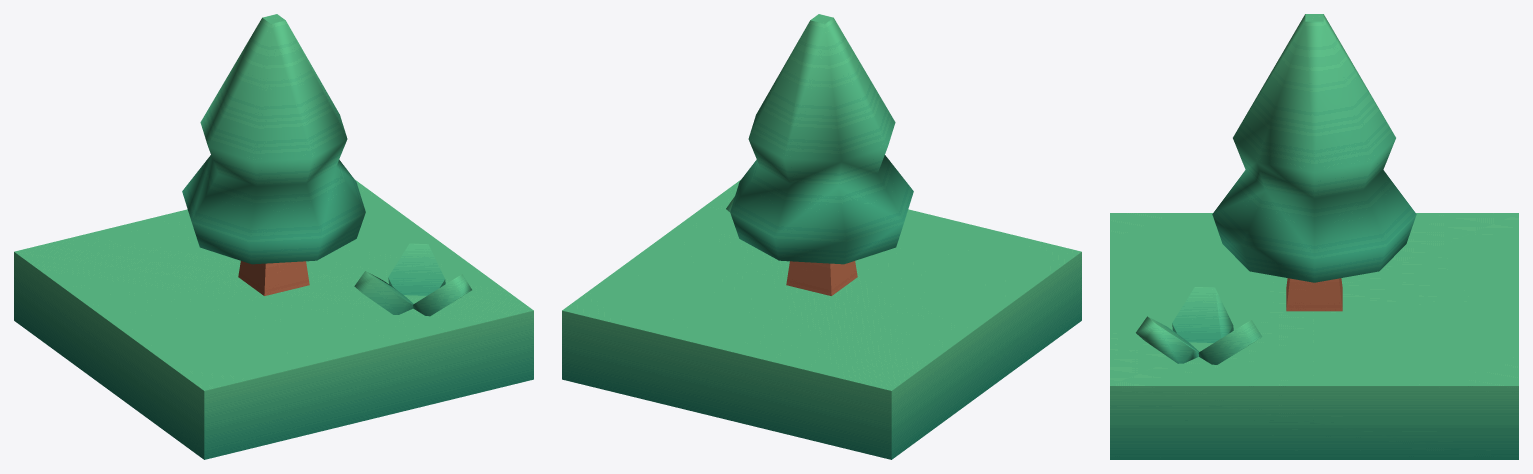
File: tile-tree.glb
3 renders of one model, left to right at view 1: azimuth 30°, elevation 25°; view 2: azimuth 150°, elevation 25°; view 3: azimuth 270°, elevation 25°, orthographic. The views are drawn at different scales.
Parts seen in each view (by area): view 1: tile-tree; view 2: tile-tree; view 3: tile-tree.
Boxes of the visible parts, box(x1,y1,x2,y2) form: tile-tree: box(14, 14, 533, 459); tile-tree: box(562, 14, 1081, 459); tile-tree: box(1110, 14, 1518, 459).
Size of the model in its own units: 1 by 0.96 by 1.
1 material, 1 textured.
